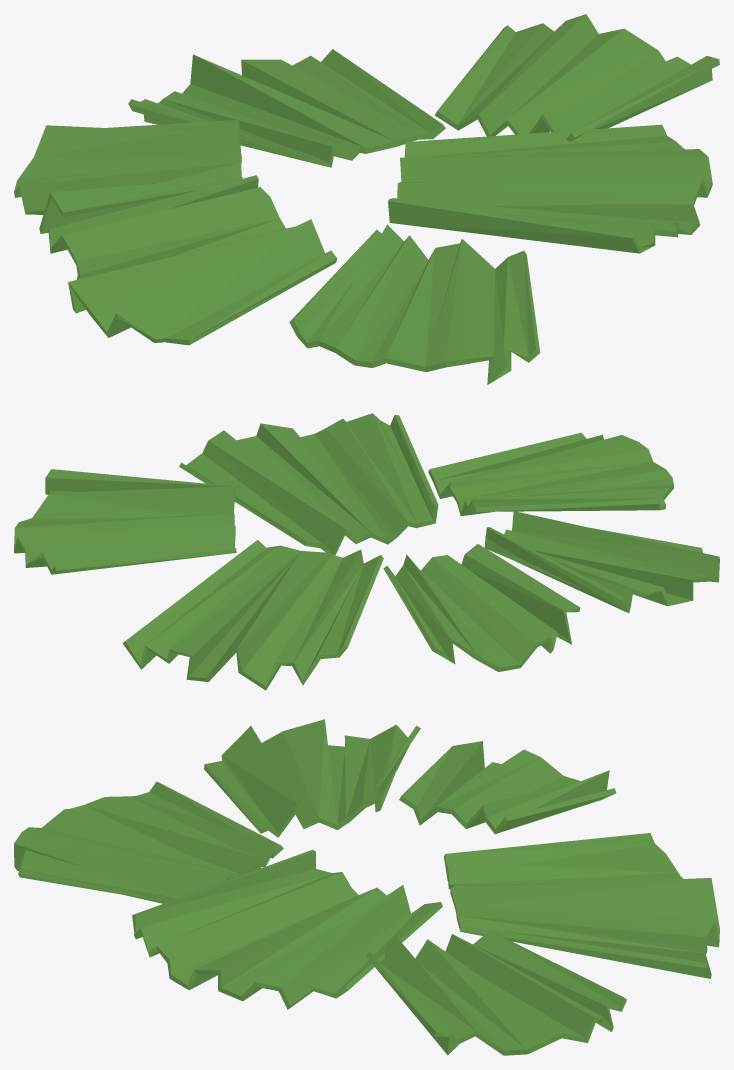
Rendered from Lettuce.glb.
3 renders of one model, top to bottom at view 1: azimuth 30°, elevation 25°; view 2: azimuth 150°, elevation 25°; view 3: azimuth 270°, elevation 25°, orthographic. The views are drawn at different scales.
Visible parts, largest first — view 1: Lettuce; view 2: Lettuce; view 3: Lettuce.
Boxes of the visible parts, <box> form: Lettuce: <box>14,14,719,384</box>; Lettuce: <box>14,413,719,690</box>; Lettuce: <box>14,719,719,1055</box>.
Size of the model in its own units: 1.79 by 0.2305 by 1.68.
